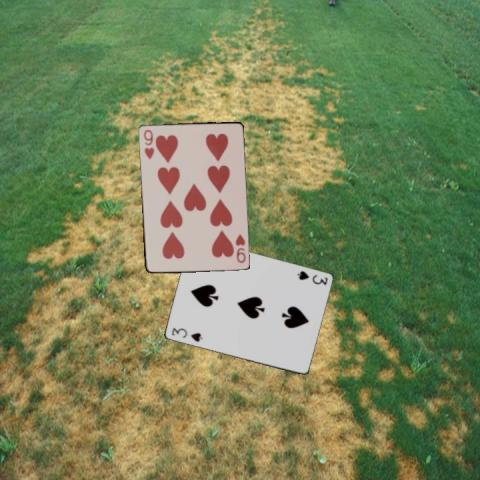3s: (294, 268, 329, 287), (168, 326, 203, 344)
9h: (232, 231, 247, 264), (141, 126, 155, 160)
